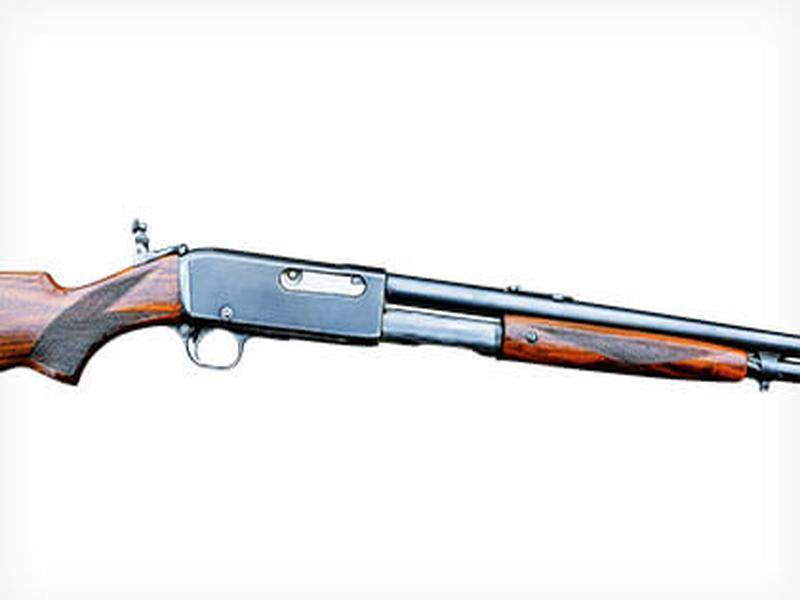GUN: (1, 217, 800, 393)
